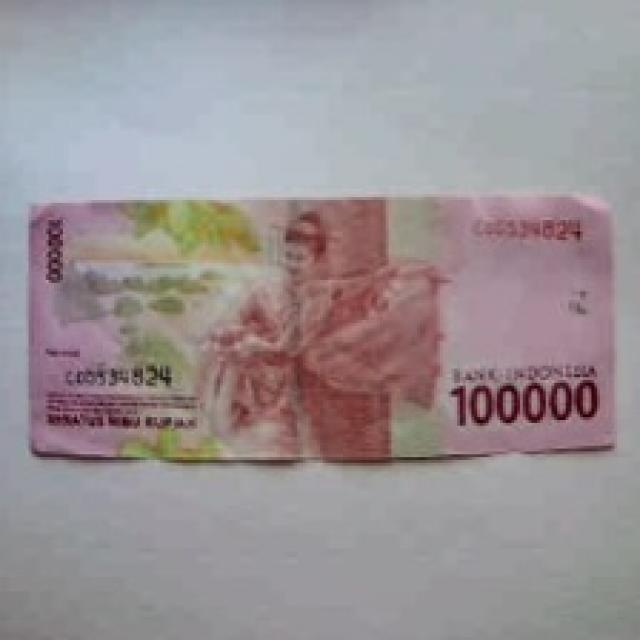lima puluh ribu rupiah: (0, 186, 637, 460)
